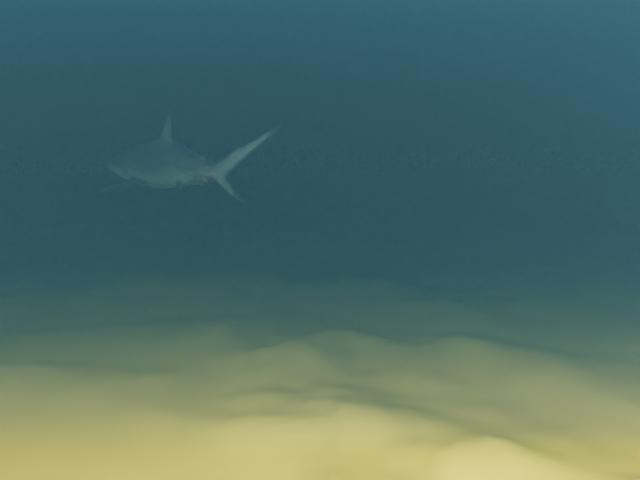Carribean Shark.001: (94, 111, 281, 202)
